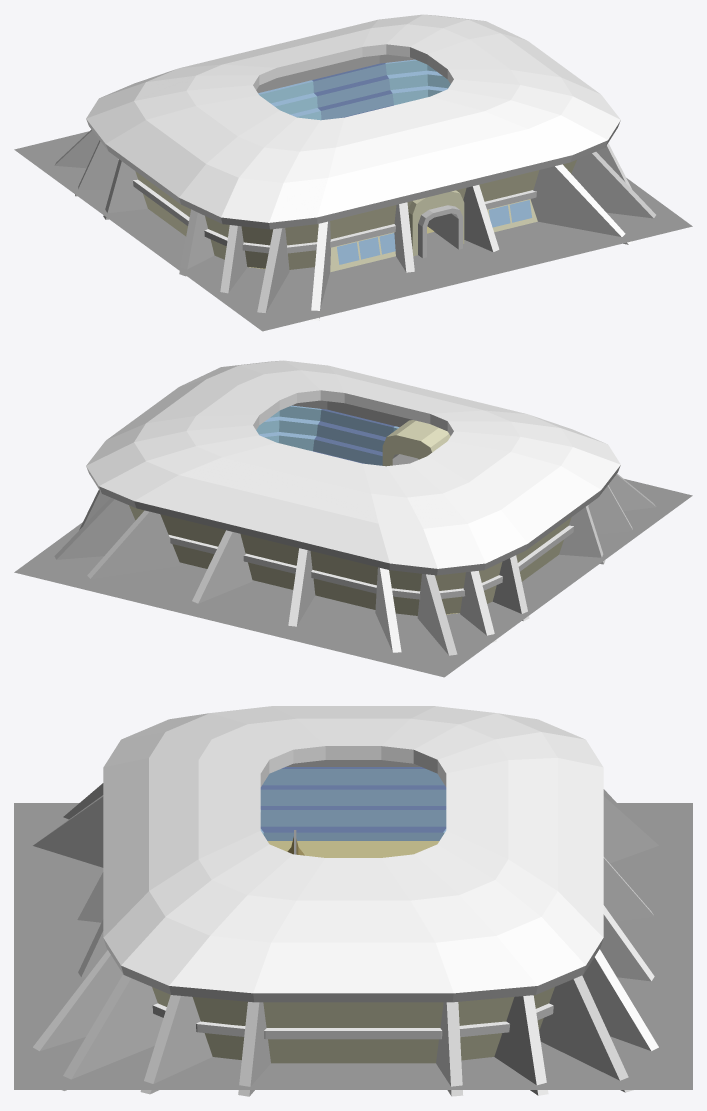
The model's file is stadium_010.fbx.
3 renders of one model, top to bottom at view 1: azimuth 30°, elevation 25°; view 2: azimuth 150°, elevation 25°; view 3: azimuth 270°, elevation 25°, orthographic. The views are drawn at different scales.
Parts seen in each view (by area): view 1: stadium_010; view 2: stadium_010; view 3: stadium_010.
Boxes of the visible parts, x1,y1,x2,y2 form: stadium_010: [14, 14, 692, 331]; stadium_010: [14, 360, 692, 677]; stadium_010: [14, 706, 692, 1096].
Bounding box in the file's own units: 1600 × 401 × 1600.
